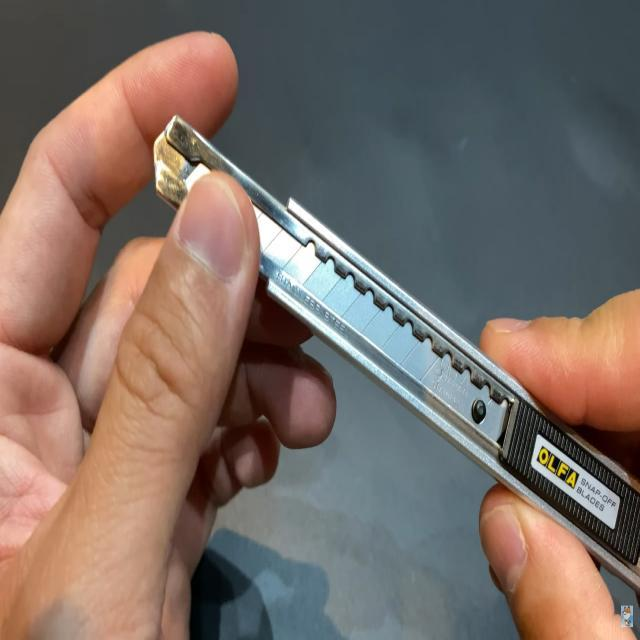cutter: (19, 34, 640, 640)
